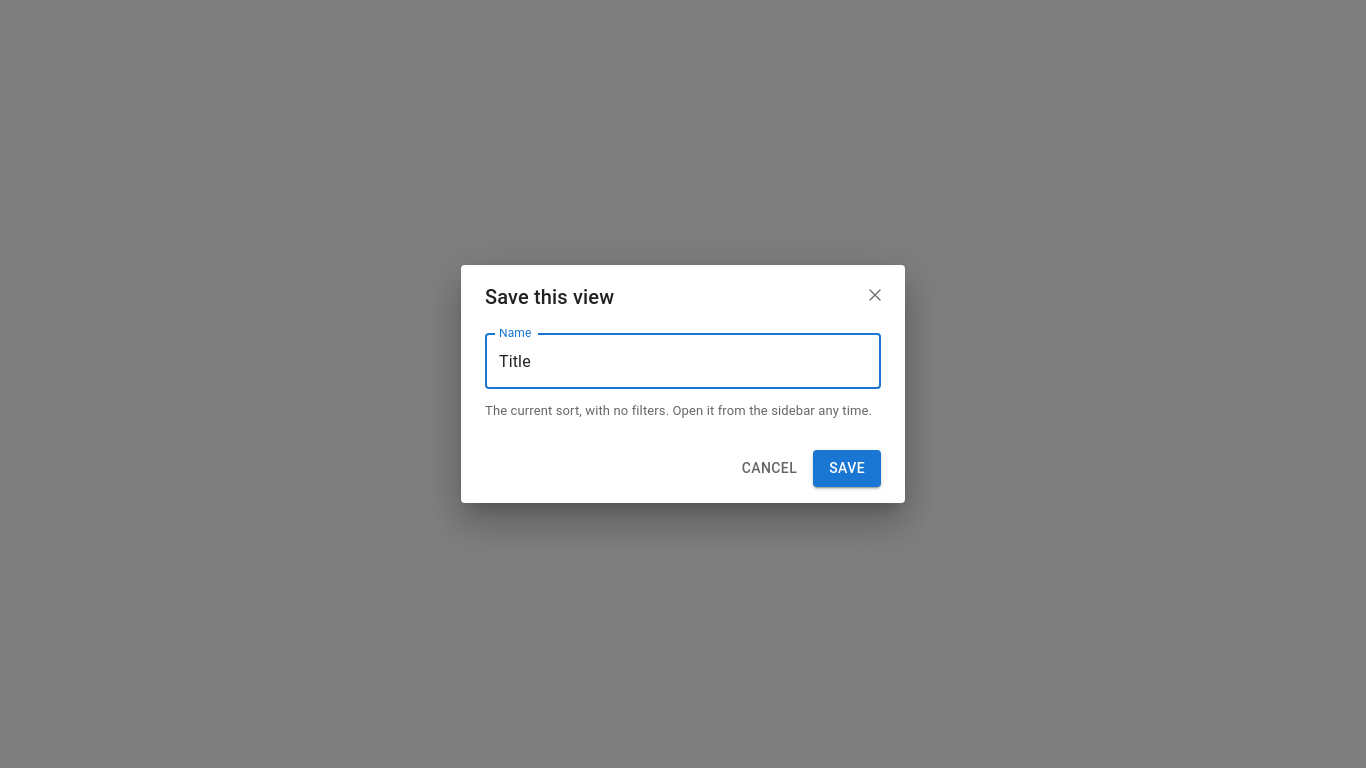
Test: SaveViewDialog › a failed save stays open and says why
Check: the field labelled "Name" holds "Title", box [485,333,881,389]
Click the button "Save": (847, 468) [813,450,881,487]
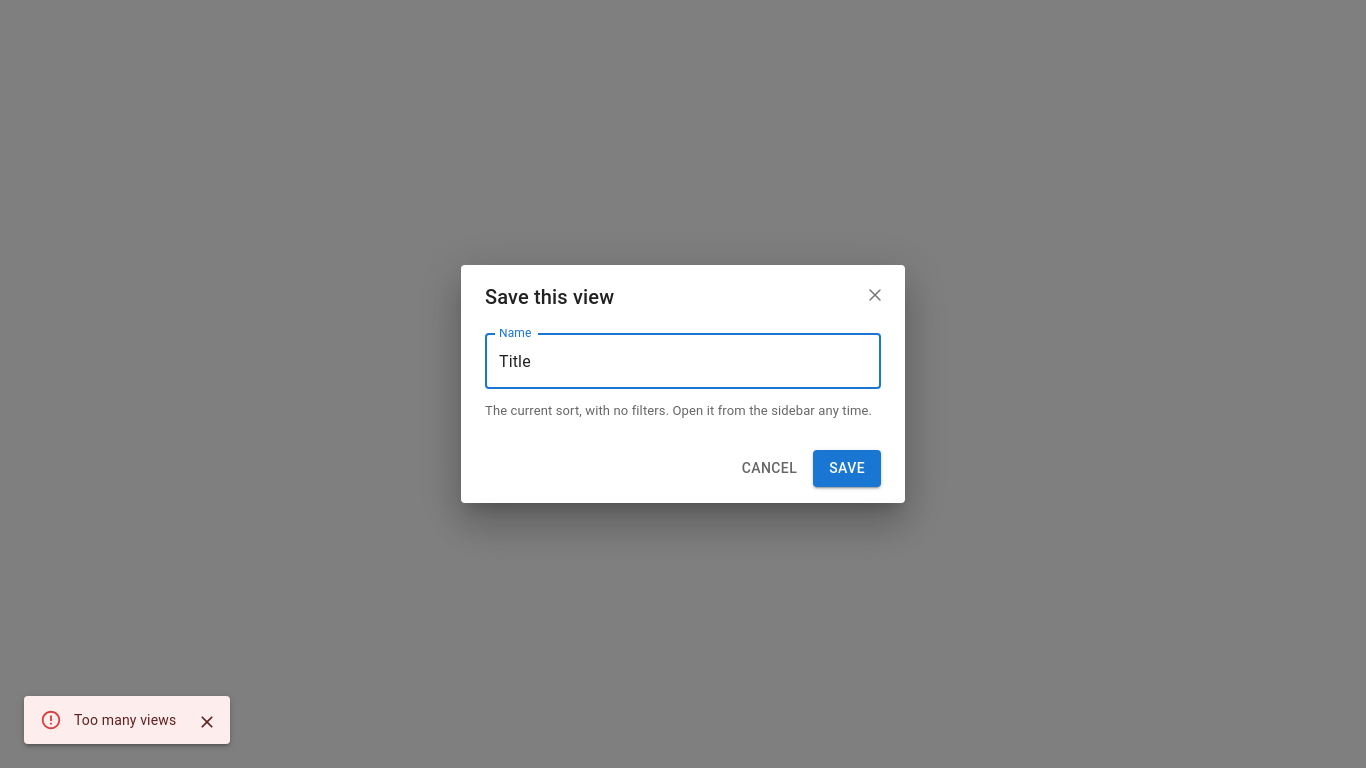
Check: the text "Too many views" is shown, box [74,712,176,728]
